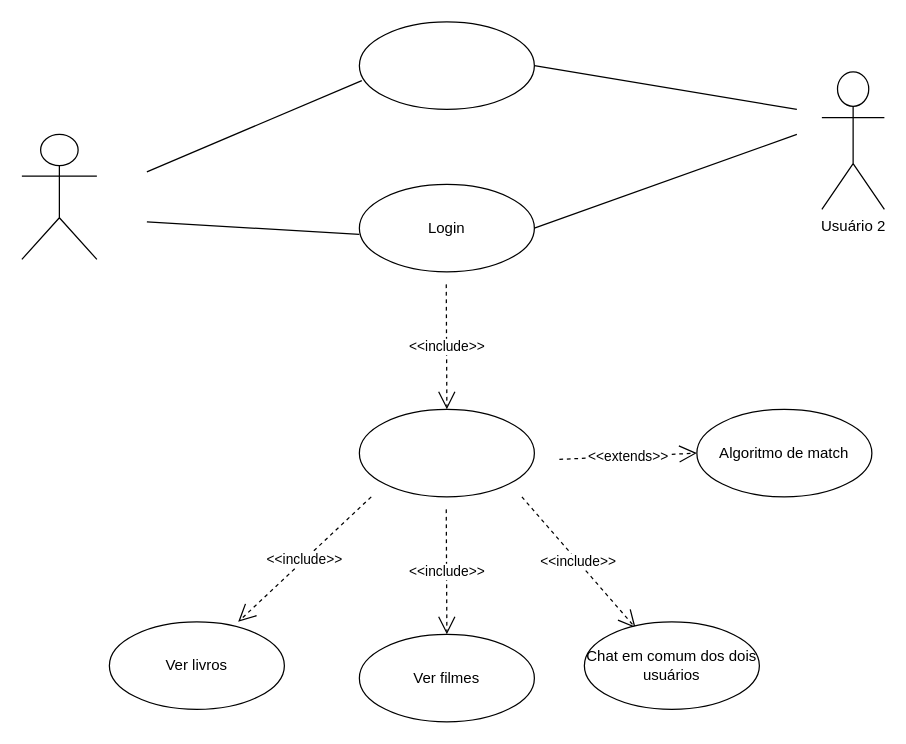
This 906x744 diagram has some shape labels left out. The centre of each missing label's shape, as x and y in pixels:
Cadastrar: [446,65]
Escolher gêneros: [446,452]
Usuário 1: [59,196]
